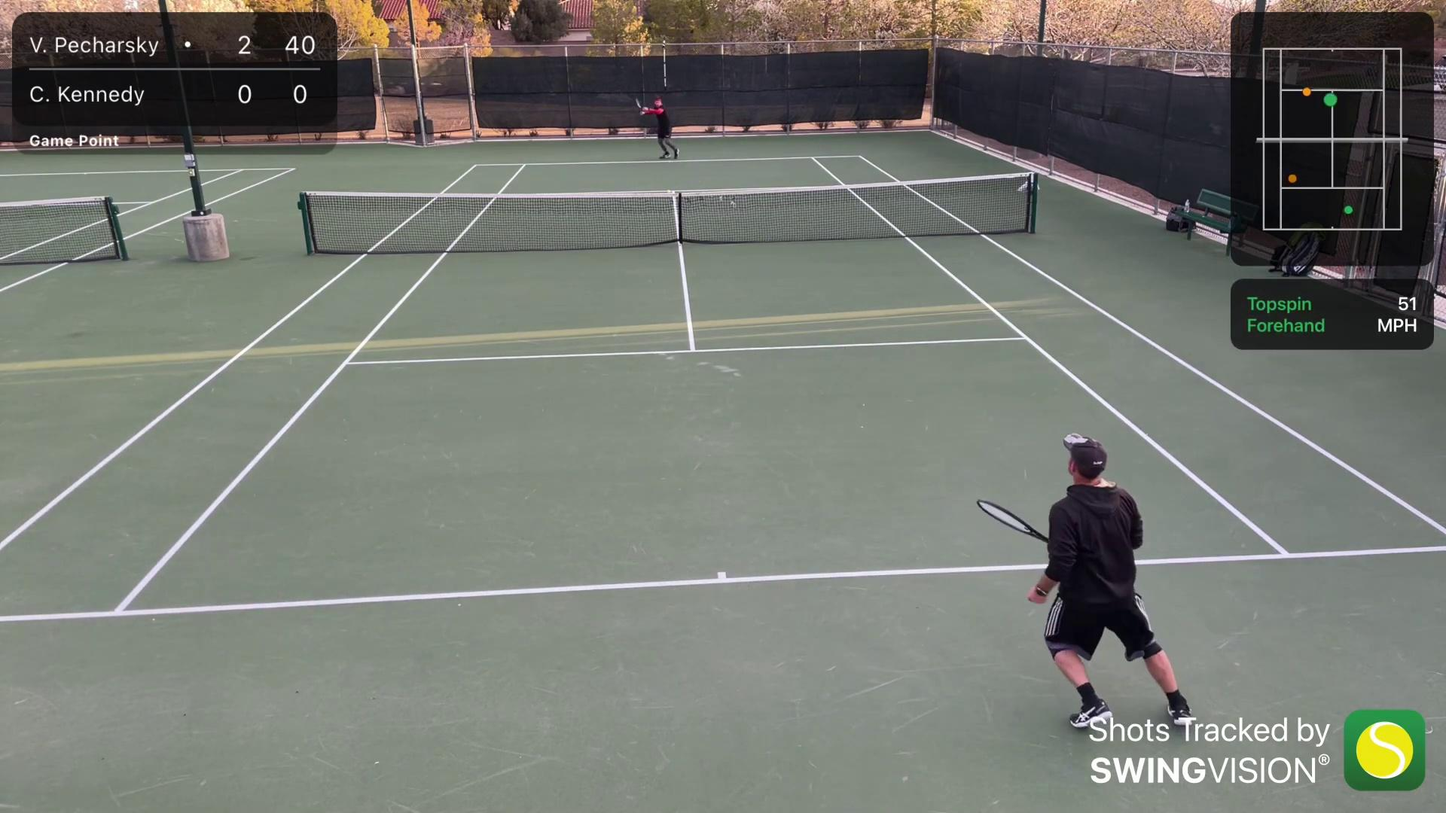ball: (665, 189, 672, 196)
